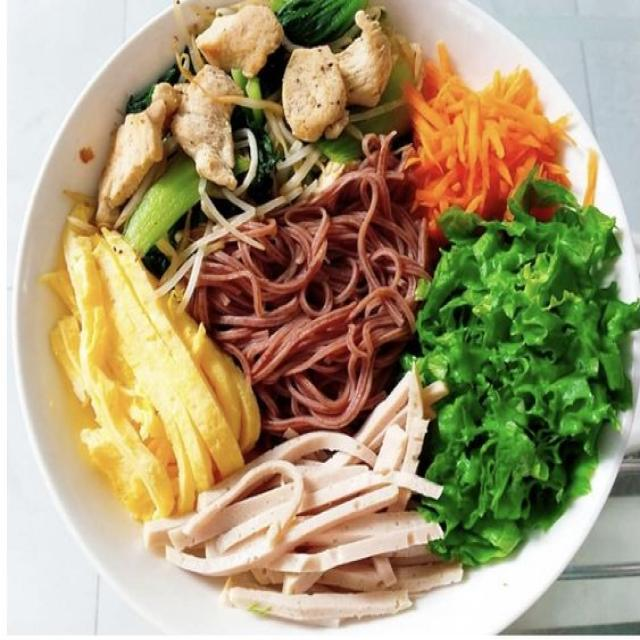Carbohydrate: (182, 157, 433, 421)
Kaow-Yum: (1, 0, 640, 639)
Protein: (149, 375, 461, 632), (32, 191, 261, 519), (78, 15, 391, 212)
Vegetable: (399, 26, 639, 580)
